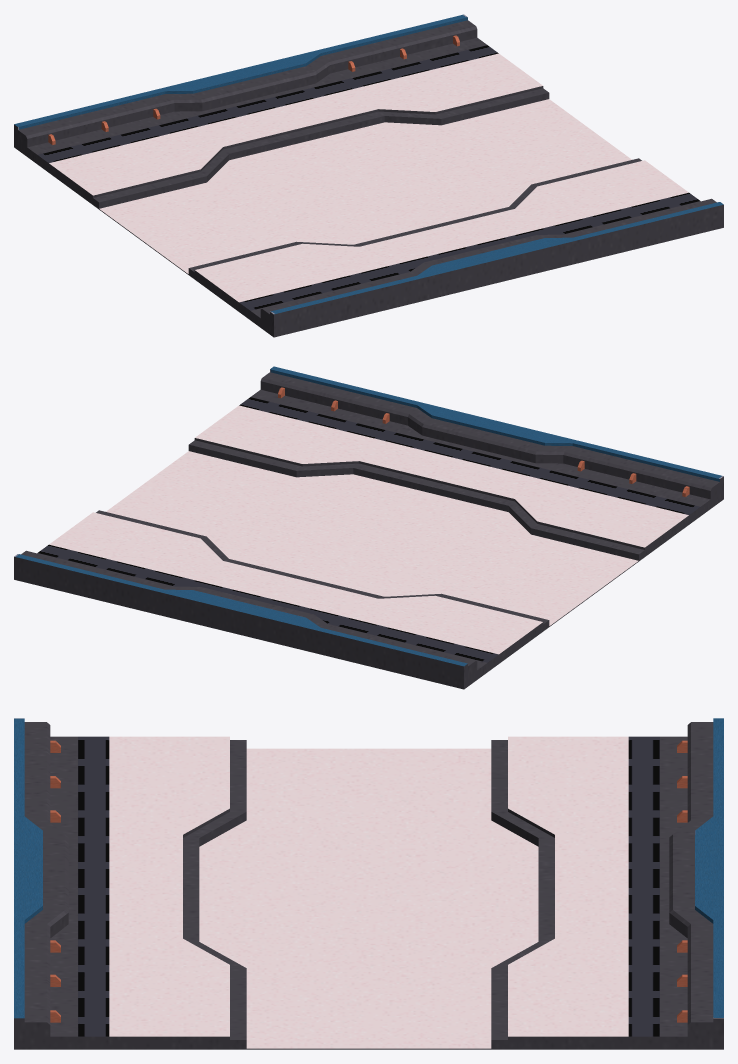
The model's file is Path_Straight_Blank.glb.
The picture shows the model from 3 angles, top to bottom: view 1: azimuth 30°, elevation 25°; view 2: azimuth 150°, elevation 25°; view 3: azimuth 270°, elevation 25°; orthographic projection. The views are drawn at different scales.
Visible parts, largest first — view 1: Floor_Straight_Blank; view 2: Floor_Straight_Blank; view 3: Floor_Straight_Blank.
Boxes of the visible parts, x1=… form: Floor_Straight_Blank: x1=14, y1=14, x2=723, y2=337; Floor_Straight_Blank: x1=14, y1=366, x2=723, y2=689; Floor_Straight_Blank: x1=14, y1=718, x2=723, y2=1049.
Size of the model in its own units: 4 by 0.1961 by 4.
2 materials, 2 textured.
